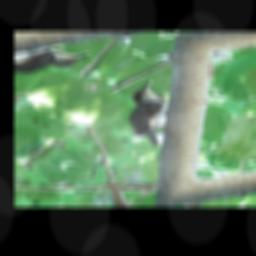Cuckoo: (93, 79, 213, 148)
